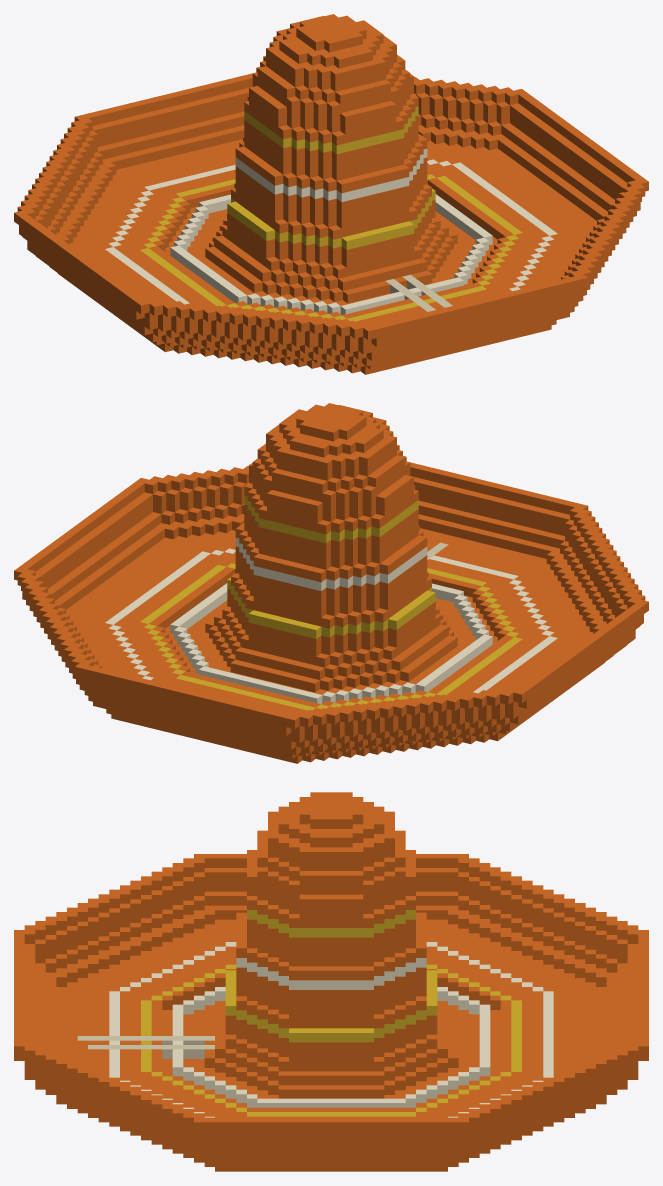
The model's file is sombrero.glb.
The picture shows the model from 3 angles, top to bottom: view 1: azimuth 30°, elevation 25°; view 2: azimuth 150°, elevation 25°; view 3: azimuth 270°, elevation 25°; orthographic projection. The views are drawn at different scales.
Parts seen in each view (by area): view 1: sombrero:compound; view 2: sombrero:compound; view 3: sombrero:compound.
Boxes of the visible parts, box(x1,y1,x2,y2) form: sombrero:compound: box(14, 14, 648, 374); sombrero:compound: box(14, 403, 648, 763); sombrero:compound: box(14, 792, 648, 1171).
Bounding box in the file's own units: 0.6 × 0.26 × 0.6.
